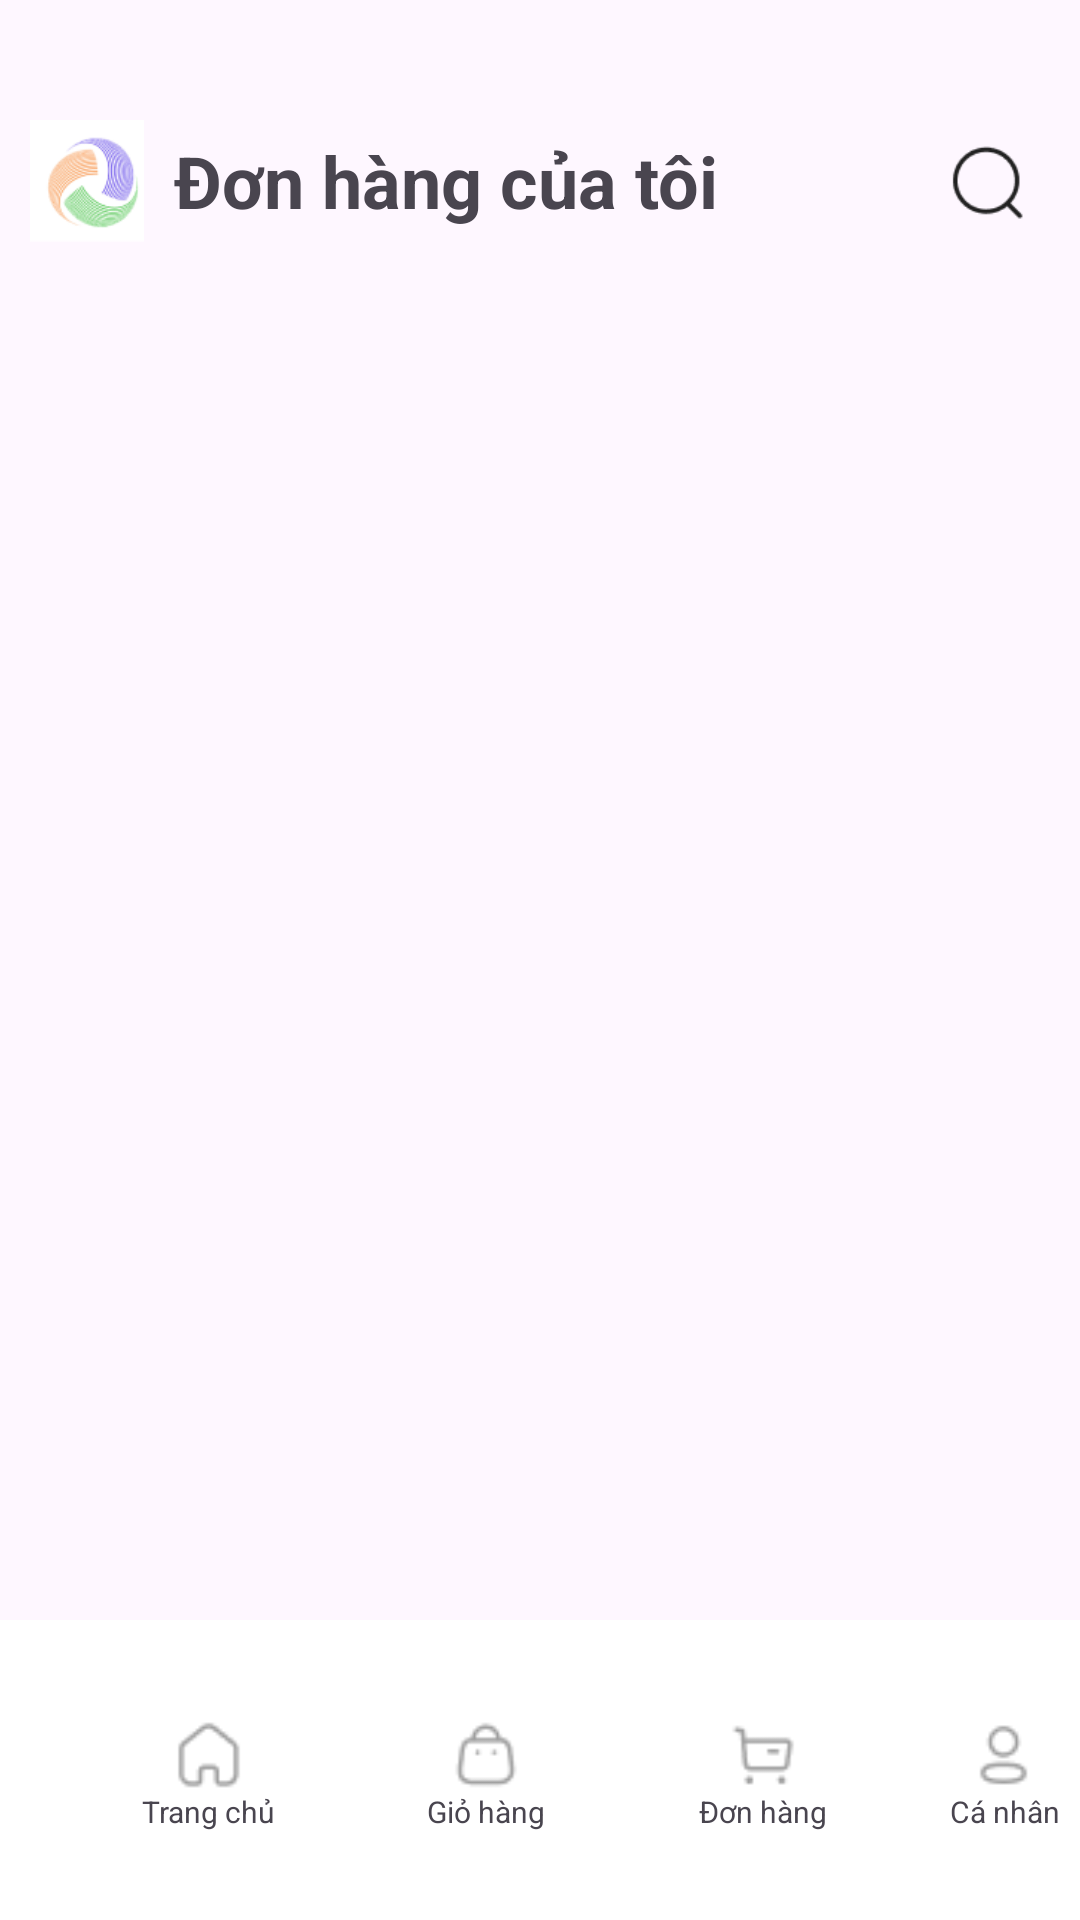

Icons on this 1080px×1920px Android screen, each with its box as (x1, y1, x2, y2):
bag: (457, 1723, 515, 1785)
buy: (734, 1726, 793, 1785)
search: (953, 146, 1023, 219)
